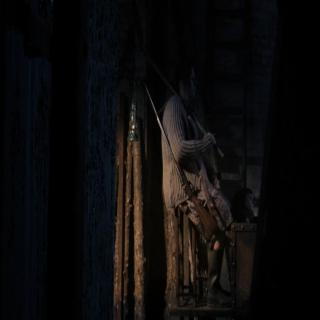gun: (144, 82, 218, 238)
